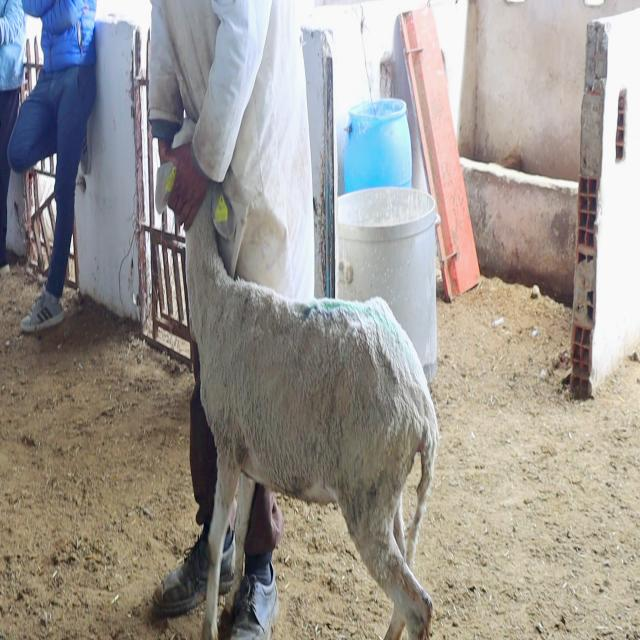Score_1: (186, 183, 439, 639)
